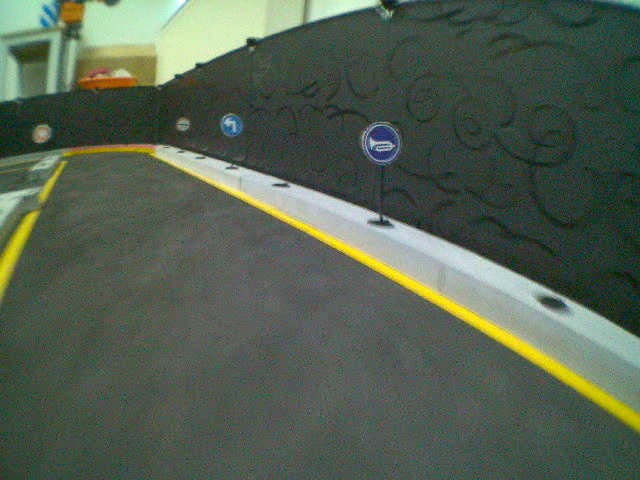Check: (173, 115, 192, 134)
Stop: (29, 125, 53, 144)
horn: (365, 125, 402, 163)
turn: (219, 109, 247, 139)
